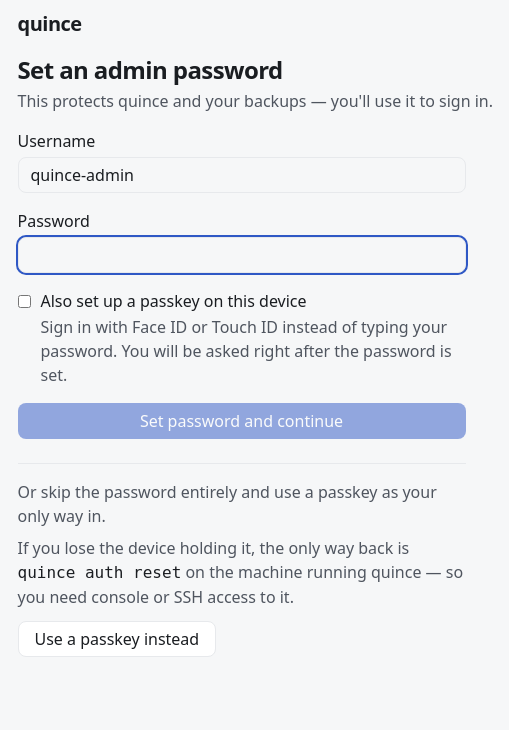
Scenario: going passwordless at first run › reports a dismissal and leaves the password form usable
Step 1. Click the button "Use a passkey instead" → (117, 639), box [18,621,216,657]
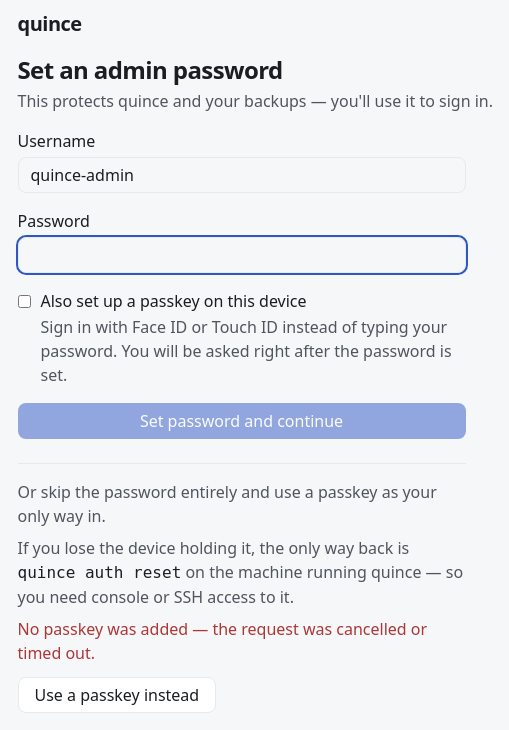
Expected: the password field labelled "Password" is shown, [18,237,466,273]
Now the text "No passkey was added" is shown, box [18,618,427,664]
